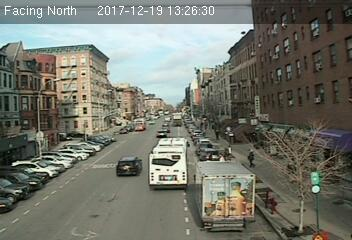bus: (147, 137, 190, 188)
car: (118, 156, 143, 176), (155, 129, 168, 139)
truck: (195, 159, 256, 233)
